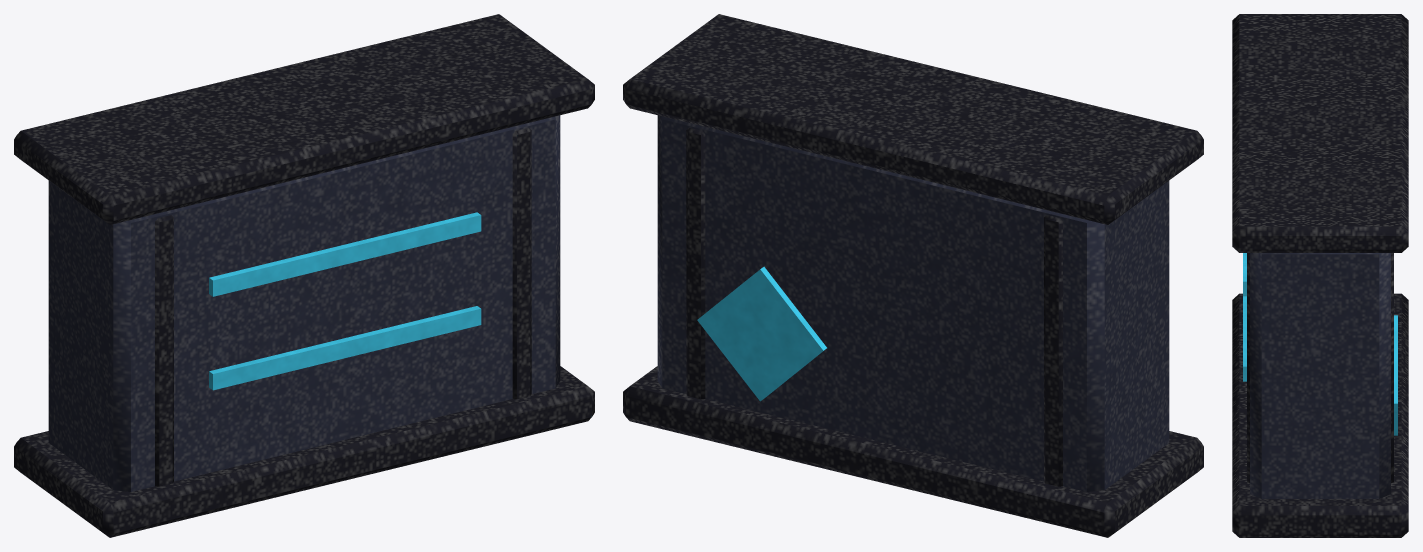
File: raid_cover_block.fbx
3 renders of one model, left to right at view 1: azimuth 30°, elevation 25°; view 2: azimuth 150°, elevation 25°; view 3: azimuth 270°, elevation 25°, orthographic. The views are drawn at different scales.
Visible parts, largest first — view 1: Raid_cover_block; view 2: Raid_cover_block; view 3: Raid_cover_block.
Part boxes in pixels (bbox=[...]): Raid_cover_block: bbox=[14, 14, 594, 537]; Raid_cover_block: bbox=[623, 14, 1203, 537]; Raid_cover_block: bbox=[1232, 14, 1408, 537].
Bounding box in the file's own units: 4.4 × 2.93 × 1.5.
1 material, 1 textured.
